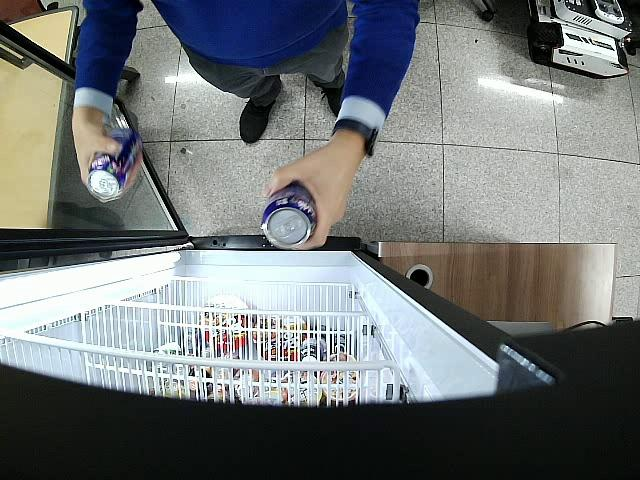00_hand: (263, 136, 360, 250), (71, 121, 141, 193)
14_welchsGrape: (87, 127, 139, 202), (260, 189, 316, 248)
